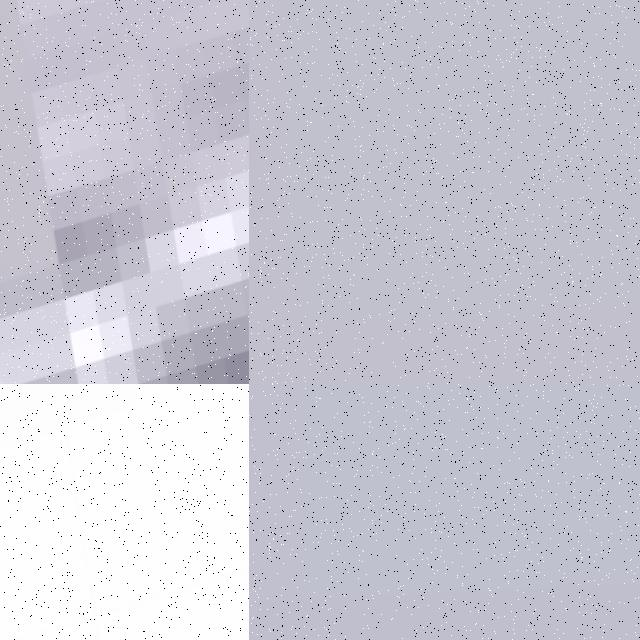0: (0, 0, 249, 384)
drone: (0, 384, 249, 640)
